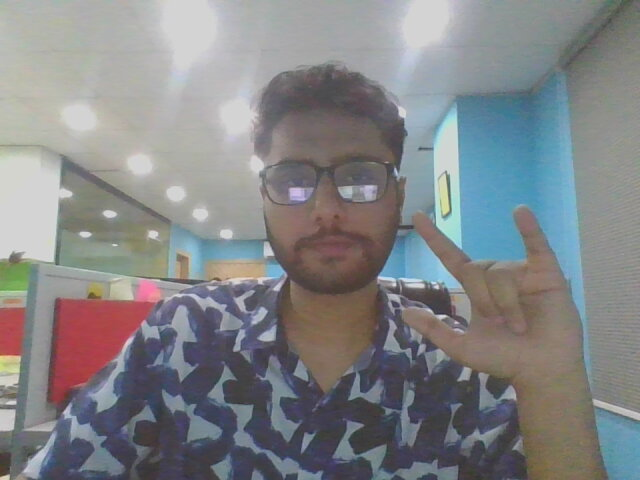iloveyou: (401, 206, 593, 395)
